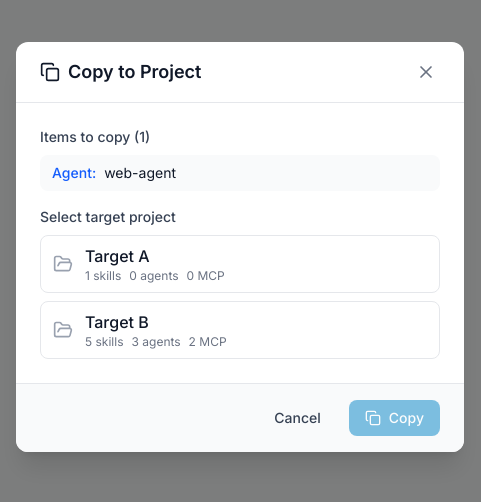
Test: CopyToProjectModal › shows success message after successful copy
Click the text "Target A": (117, 256) [85,246,150,266]
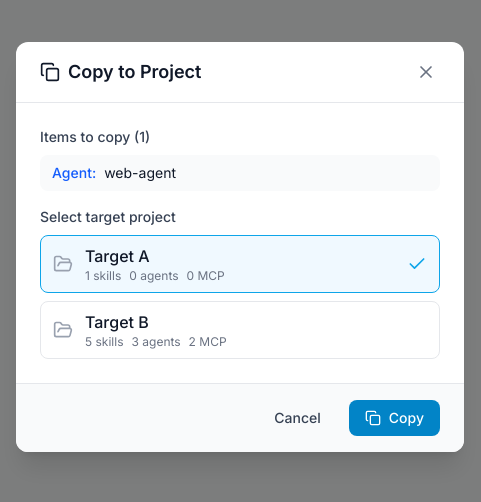
Click the button "Copy": (394, 418) [349,400,440,436]
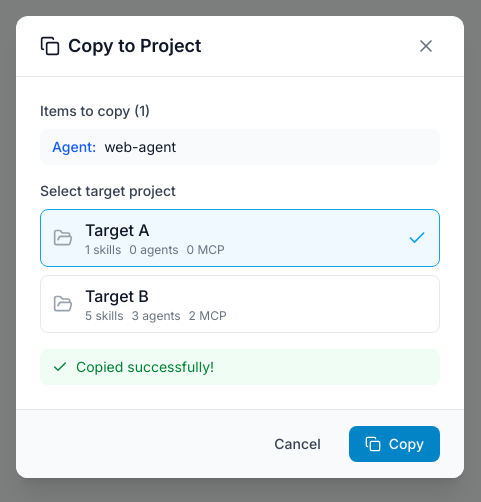
Result: the text "Copied successfully!" is shown at [40,349,440,385]
